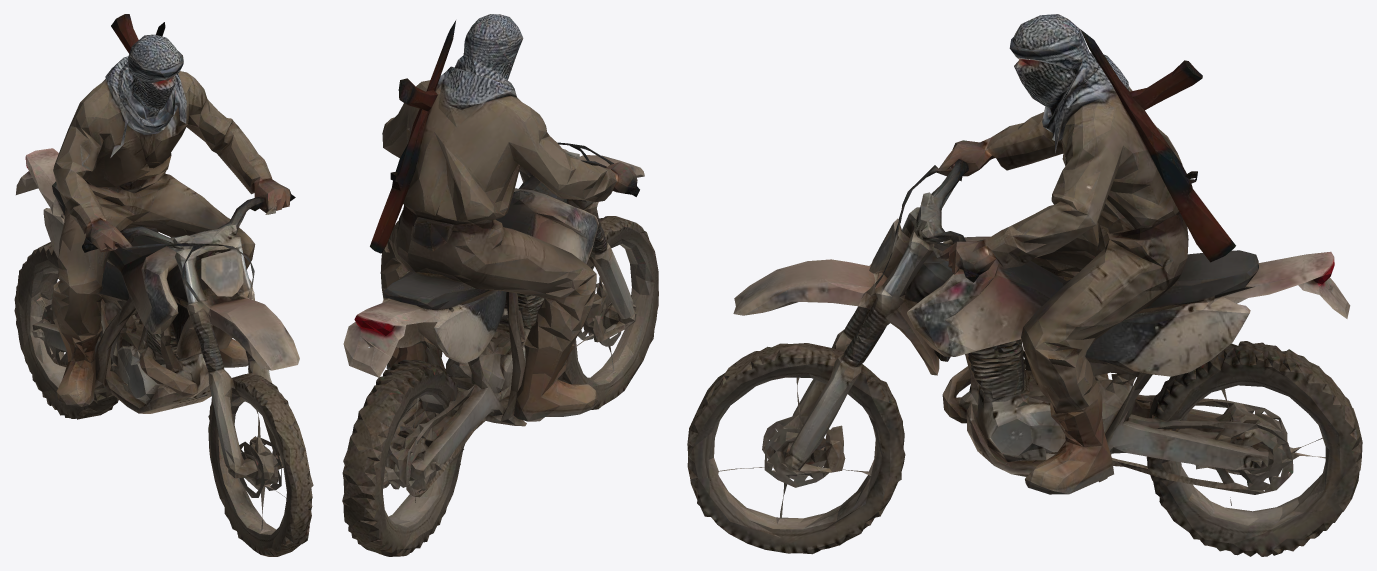
The model's file is moto_scout.glb.
3 renders of one model, left to right at view 1: azimuth 30°, elevation 25°; view 2: azimuth 150°, elevation 25°; view 3: azimuth 270°, elevation 25°, orthographic. The views are drawn at different scales.
Parts seen in each view (by area): view 1: Mesh; view 2: Mesh; view 3: Mesh.
Part boxes in pixels (x1,y1,x2,y2): Mesh: [14, 14, 313, 556]; Mesh: [342, 14, 658, 556]; Mesh: [687, 14, 1362, 556].
Size of the model in its own units: 0.9254 by 1.84 by 2.1.
Materials: 1 (1 with a texture image).
